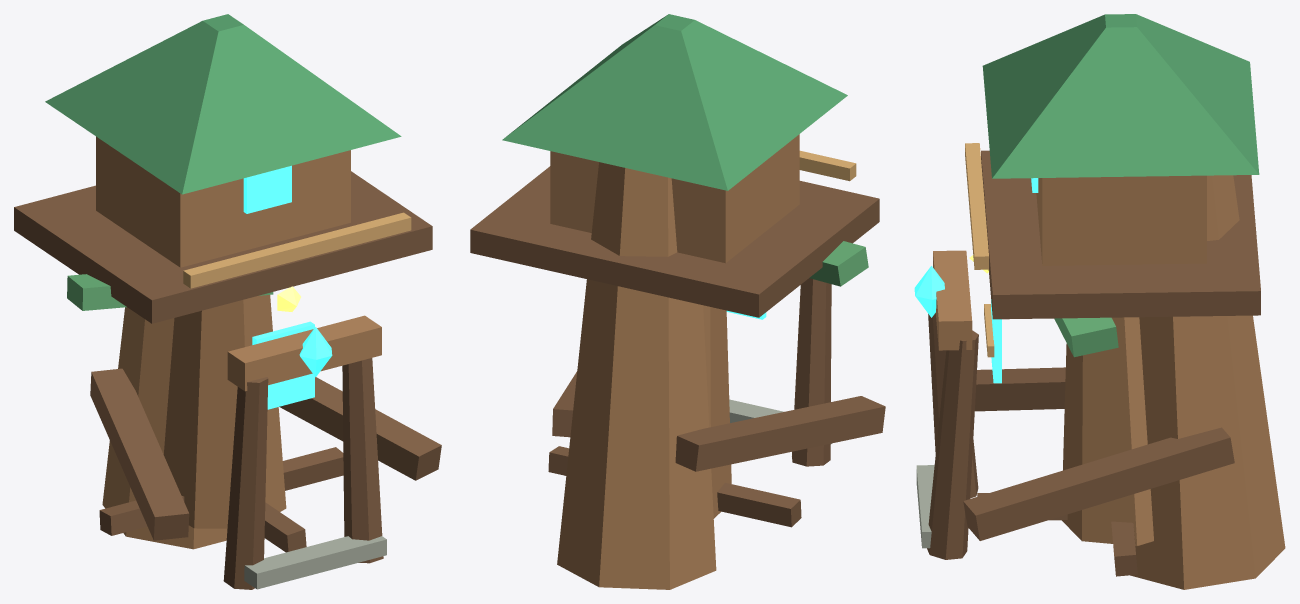
Rendered from thornveil_sylvaen_treehouse.glb.
3 views of the same model, side by side, from view 1: azimuth 30°, elevation 25°; view 2: azimuth 150°, elevation 25°; view 3: azimuth 270°, elevation 25° (orthographic). The views are drawn at different scales.
Parts seen in each view (by area): view 1: PREFAB_thornveil_sylvaen_treehouse_00_SCENE_Architecture_Bac, PREFAB_thornveil_sylvaen_treehouse_08_SCENE_Architecture_Bac, PREFAB_thornveil_sylvaen_treehouse_02_SCENE_Architecture_Bac, PREFAB_thornveil_sylvaen_treehouse_01_SCENE_Architecture_Bac, PREFAB_thornveil_sylvaen_treehouse_04_SCENE_Architecture_Bac, PREFAB_thornveil_sylvaen_treehouse_06_SCENE_Architecture_Bac, PREFAB_thornveil_sylvaen_treehouse_03_SCENE_Architecture_Bac; view 2: PREFAB_thornveil_sylvaen_treehouse_00_SCENE_Architecture_Bac, PREFAB_thornveil_sylvaen_treehouse_01_SCENE_Architecture_Bac, PREFAB_thornveil_sylvaen_treehouse_02_SCENE_Architecture_Bac, PREFAB_thornveil_sylvaen_treehouse_08_SCENE_Architecture_Bac, PREFAB_thornveil_sylvaen_treehouse_03_SCENE_Architecture_Bac, PREFAB_thornveil_sylvaen_treehouse_04_SCENE_Architecture_Bac; view 3: PREFAB_thornveil_sylvaen_treehouse_00_SCENE_Architecture_Bac, PREFAB_thornveil_sylvaen_treehouse_01_SCENE_Architecture_Bac, PREFAB_thornveil_sylvaen_treehouse_08_SCENE_Architecture_Bac, PREFAB_thornveil_sylvaen_treehouse_04_SCENE_Architecture_Bac, PREFAB_thornveil_sylvaen_treehouse_02_SCENE_Architecture_Bac, PREFAB_thornveil_sylvaen_treehouse_05_SCENE_Architecture_Bac, PREFAB_thornveil_sylvaen_treehouse_06_SCENE_Architecture_Bac.
Part boxes in pixels (x1=…): PREFAB_thornveil_sylvaen_treehouse_00_SCENE_Architecture_Bac: x1=14, y1=14, x2=432, y2=552; PREFAB_thornveil_sylvaen_treehouse_08_SCENE_Architecture_Bac: x1=223, y1=315, x2=386, y2=589; PREFAB_thornveil_sylvaen_treehouse_02_SCENE_Architecture_Bac: x1=90, y1=368, x2=189, y2=540; PREFAB_thornveil_sylvaen_treehouse_01_SCENE_Architecture_Bac: x1=102, y1=307, x2=227, y2=549; PREFAB_thornveil_sylvaen_treehouse_04_SCENE_Architecture_Bac: x1=279, y1=377, x2=441, y2=480; PREFAB_thornveil_sylvaen_treehouse_06_SCENE_Architecture_Bac: x1=252, y1=321, x2=314, y2=409; PREFAB_thornveil_sylvaen_treehouse_03_SCENE_Architecture_Bac: x1=67, y1=274, x2=273, y2=310; PREFAB_thornveil_sylvaen_treehouse_00_SCENE_Architecture_Bac: x1=470, y1=14, x2=879, y2=527; PREFAB_thornveil_sylvaen_treehouse_01_SCENE_Architecture_Bac: x1=557, y1=162, x2=716, y2=589; PREFAB_thornveil_sylvaen_treehouse_02_SCENE_Architecture_Bac: x1=675, y1=396, x2=885, y2=471; PREFAB_thornveil_sylvaen_treehouse_08_SCENE_Architecture_Bac: x1=729, y1=278, x2=831, y2=466; PREFAB_thornveil_sylvaen_treehouse_03_SCENE_Architecture_Bac: x1=809, y1=241, x2=868, y2=286; PREFAB_thornveil_sylvaen_treehouse_04_SCENE_Architecture_Bac: x1=552, y1=371, x2=577, y2=437; PREFAB_thornveil_sylvaen_treehouse_00_SCENE_Architecture_Bac: x1=965, y1=14, x2=1260, y2=576; PREFAB_thornveil_sylvaen_treehouse_01_SCENE_Architecture_Bac: x1=1130, y1=175, x2=1285, y2=589; PREFAB_thornveil_sylvaen_treehouse_08_SCENE_Architecture_Bac: x1=914, y1=250, x2=978, y2=559; PREFAB_thornveil_sylvaen_treehouse_04_SCENE_Architecture_Bac: x1=963, y1=427, x2=1234, y2=540; PREFAB_thornveil_sylvaen_treehouse_02_SCENE_Architecture_Bac: x1=975, y1=367, x2=1065, y2=411; PREFAB_thornveil_sylvaen_treehouse_05_SCENE_Architecture_Bac: x1=1054, y1=317, x2=1118, y2=357; PREFAB_thornveil_sylvaen_treehouse_06_SCENE_Architecture_Bac: x1=991, y1=299, x2=1001, y2=383.
Size of the model in its own units: 5.1 by 7.52 by 4.71.
